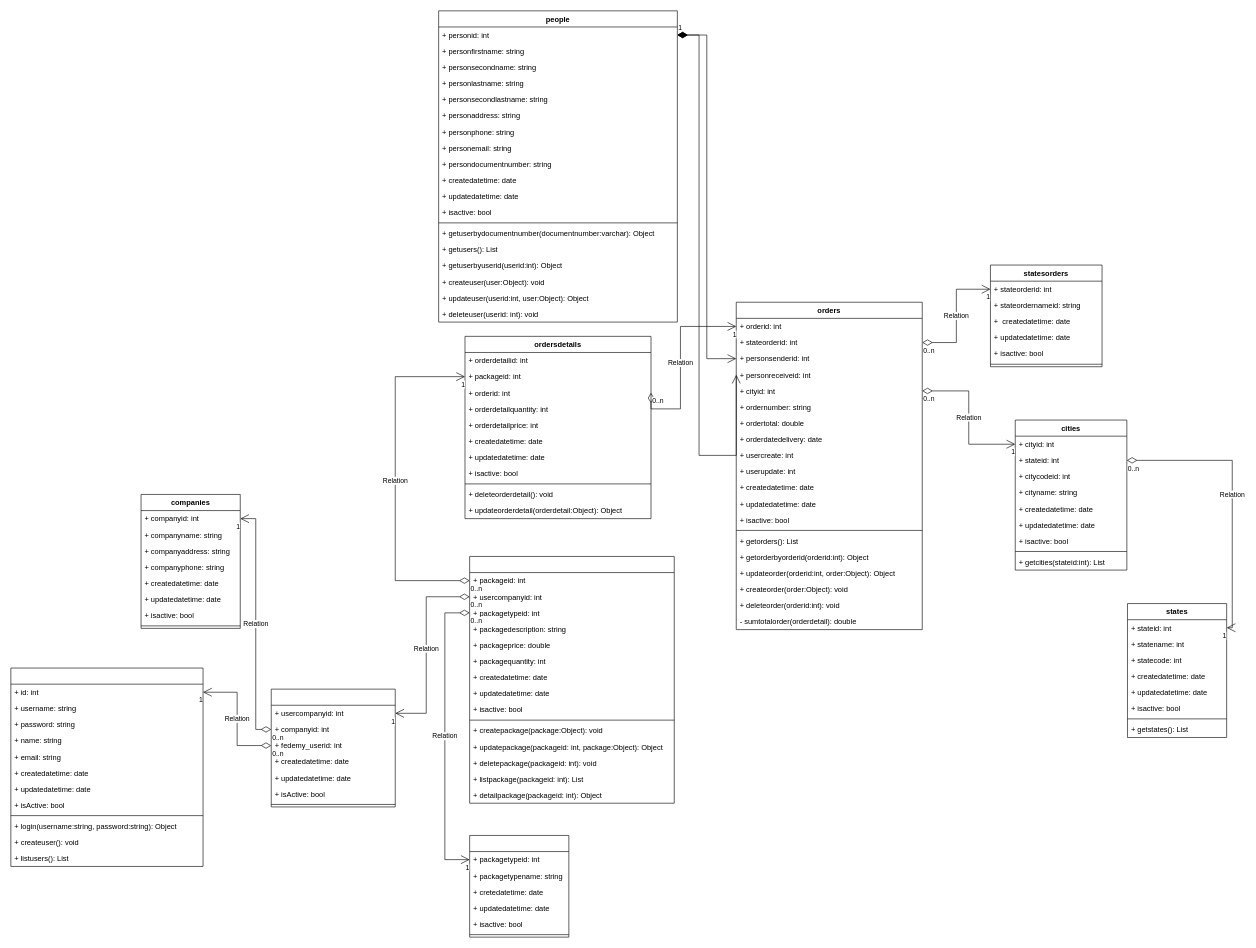
The diagram is 1256 pixels wide and 948 high, and some of its shapes have lost their labels. Here are the shapes that lost their labels. From the top down, the box of each, then its label:
(469, 556, 674, 803): packages
(10, 667, 203, 866): user(jwt)
(271, 689, 395, 807): usercompanies
(469, 835, 569, 937): packagetypes
